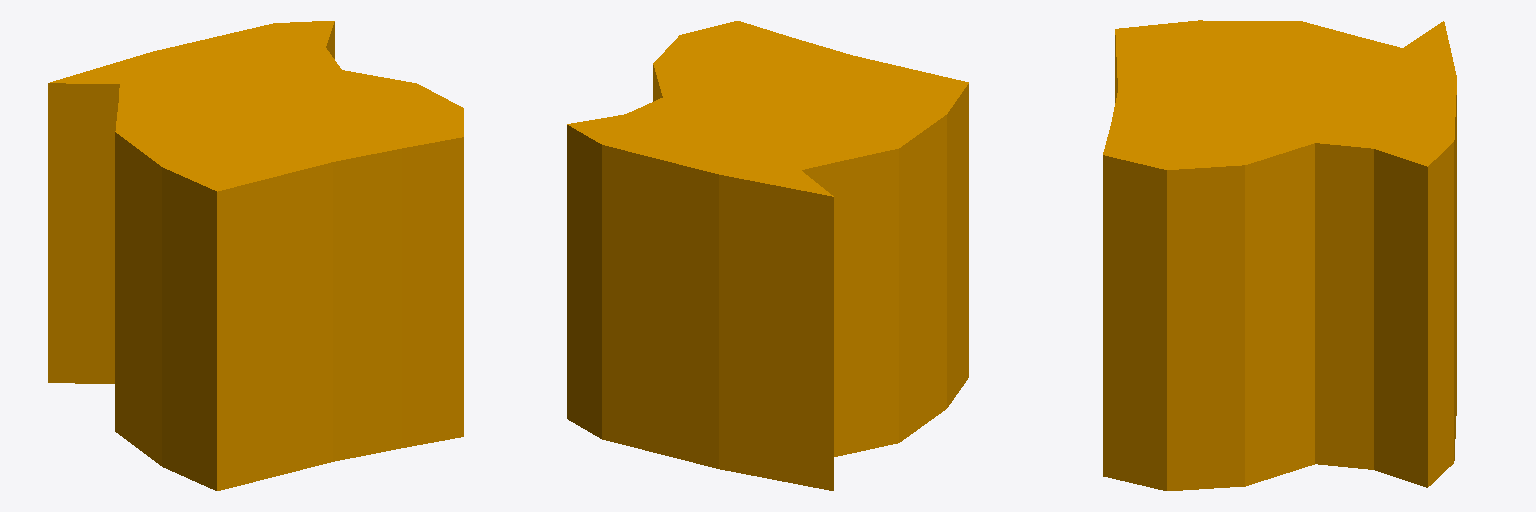
robot.urdf — object:
<?xml version="1.0"?>
<robot name="object">
  <link name="object">
    <visual>
      <origin xyz="0 0 0"/>
      <geometry>
        <mesh filename="meshes/polygon/poly_85_s.obj" scale=".03 .03 .03"/>
      </geometry>
    </visual>
    <collision>
  <origin xyz="0 0 0"/>
  <geometry>
    <mesh filename="meshes/polygon/poly_85_s_0decompose.obj" scale=".03 .03 .03"/>
<!--          <mesh filename="meshes/custom/obj0_ball.obj" scale=".05 .05 .05"/>-->
  </geometry>
</collision><collision>
  <origin xyz="0 0 0"/>
  <geometry>
    <mesh filename="meshes/polygon/poly_85_s_1decompose.obj" scale=".03 .03 .03"/>
<!--          <mesh filename="meshes/custom/obj0_ball.obj" scale=".05 .05 .05"/>-->
  </geometry>
</collision>

<!--    <collision>-->
<!--      <origin xyz="0 0 0"/>-->
<!--      <geometry>-->
<!--        <mesh filename="meshes/polygon/poly_85_s.obj" scale=".03 .03 .03"/>-->
<!--&lt;!&ndash;          <mesh filename="meshes/custom/obj0_ball.obj" scale=".05 .05 .05"/>&ndash;&gt;-->
<!--      </geometry>-->
<!--    </collision>-->
    <inertial>
      <density value="1000.0"/>
    </inertial>
  </link>
</robot>

--- What the picture shows (computed from the rendered views, not written in the file) ---
The picture shows the robot from 3 angles, left to right: view 1: azimuth 30°, elevation 25°; view 2: azimuth 150°, elevation 25°; view 3: azimuth 270°, elevation 25°; orthographic projection.
Model object with 1 links and 0 joints (none), rooted at object, posed every joint at zero.
Links seen in each view (by area): view 1: object; view 2: object; view 3: object.
Boxes of the visible links, x1,y1,x2,y2 form: object: (48, 21, 463, 490); object: (567, 21, 968, 490); object: (1103, 20, 1456, 490).
Bounding box of the posed robot: 0.06 × 0.06 × 0.06 m (x, y, z).
Meshes: 1 distinct files referenced, 1 mesh visuals loaded (1 OBJ).
